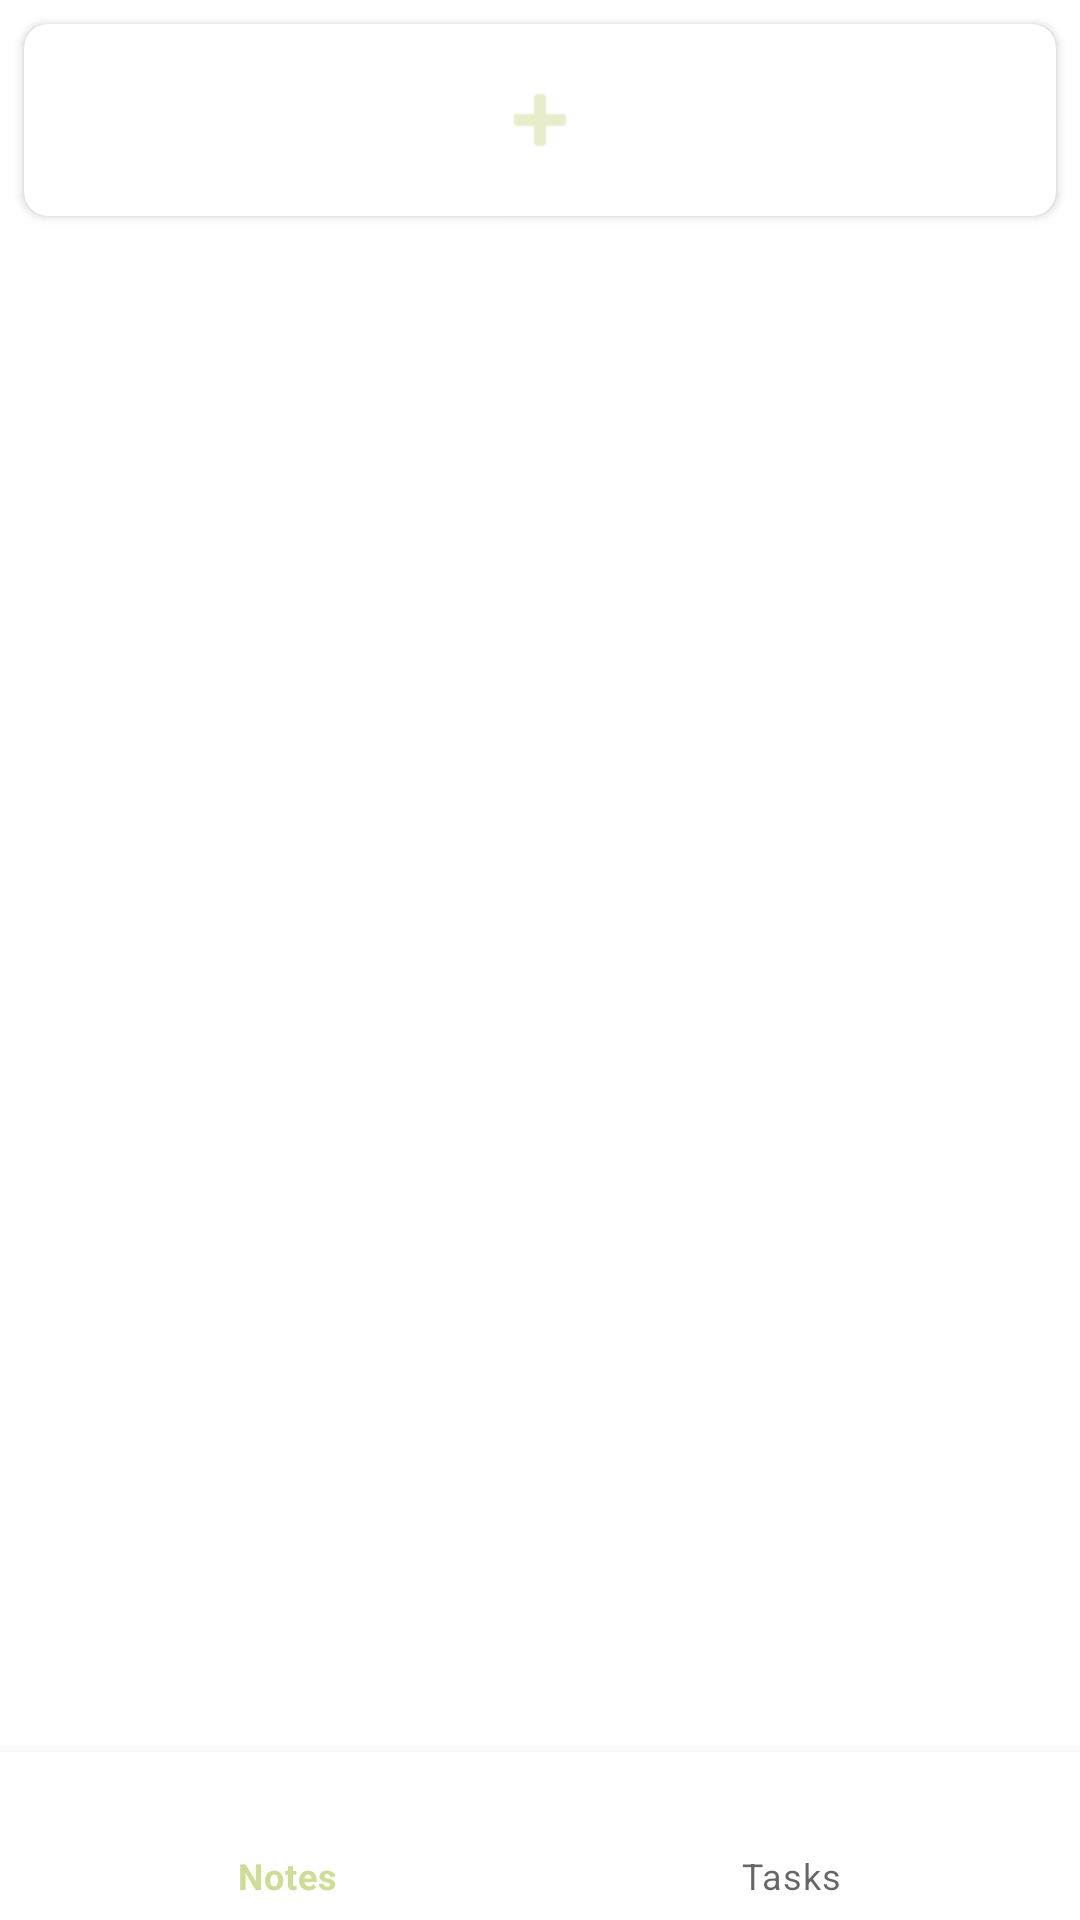

Icons on this 1080x1920 Android screen, each with its box as (x1, y1, x2, y2):
add: (514, 94, 566, 146)
